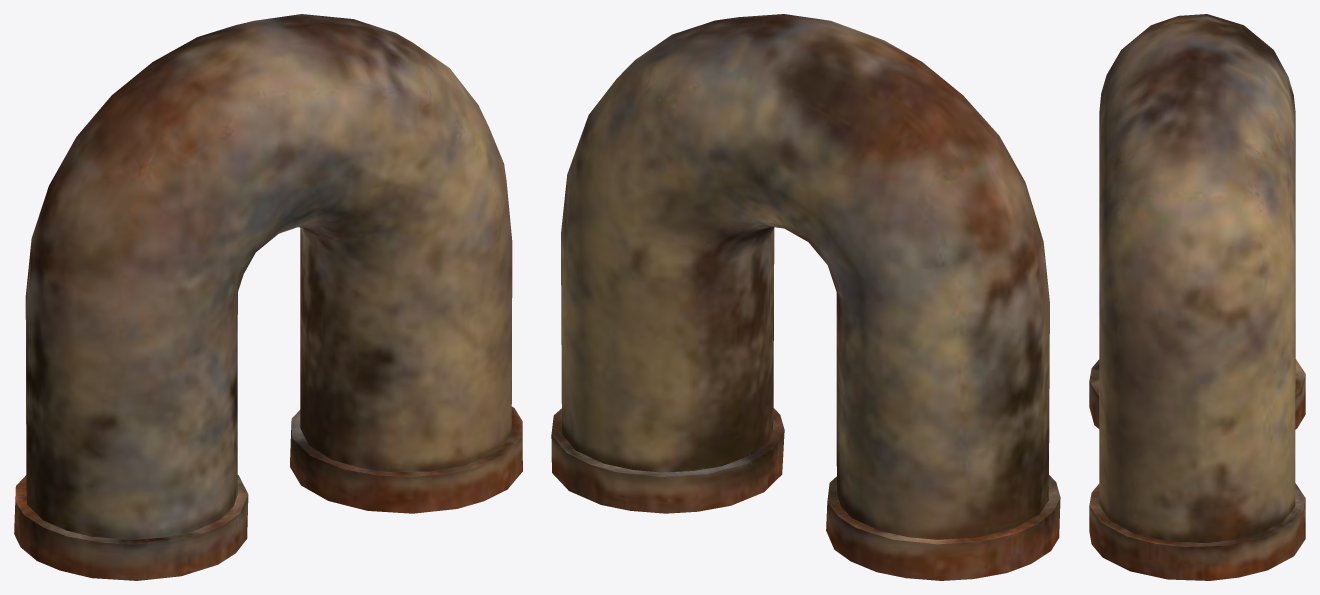
The model's file is old_pipe_08.glb.
The picture shows the model from 3 angles, left to right: view 1: azimuth 30°, elevation 25°; view 2: azimuth 150°, elevation 25°; view 3: azimuth 270°, elevation 25°; orthographic projection. The views are drawn at different scales.
Parts seen in each view (by area): view 1: old_pipe_08; view 2: old_pipe_08; view 3: old_pipe_08.
Boxes of the visible parts, x1=… form: old_pipe_08: x1=14, y1=14, x2=522, y2=580; old_pipe_08: x1=551, y1=14, x2=1060, y2=580; old_pipe_08: x1=1089, y1=14, x2=1305, y2=580.
Size of what is drawn, in the model's own units: 0.1991 by 0.1871 by 0.0844.
Materials: 1 (1 with a texture image).
